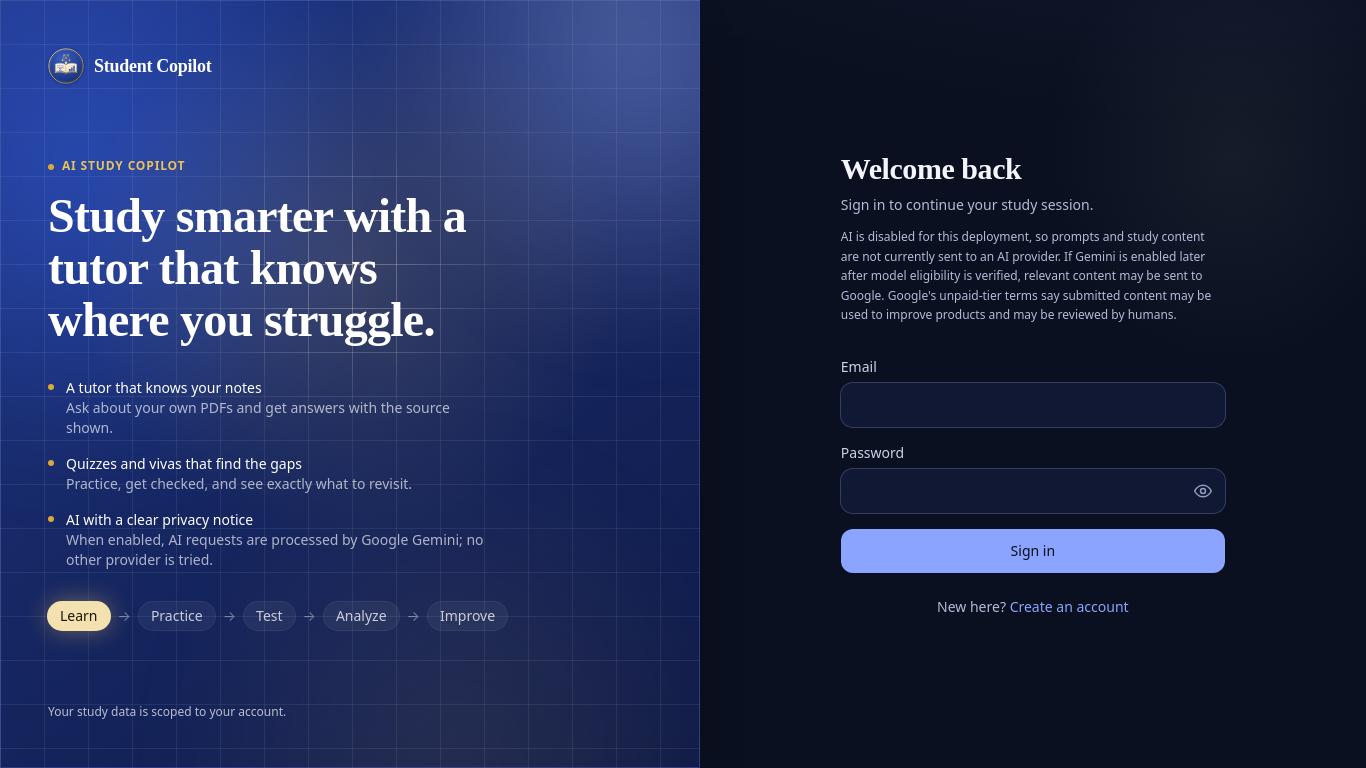
Test case: login › signs in and lands on the dashboard
The image size is (1366, 768).
Type "  Rahul@Example.com " into the field labelled "Email" at (1033, 405), box [841,383,1225,427]
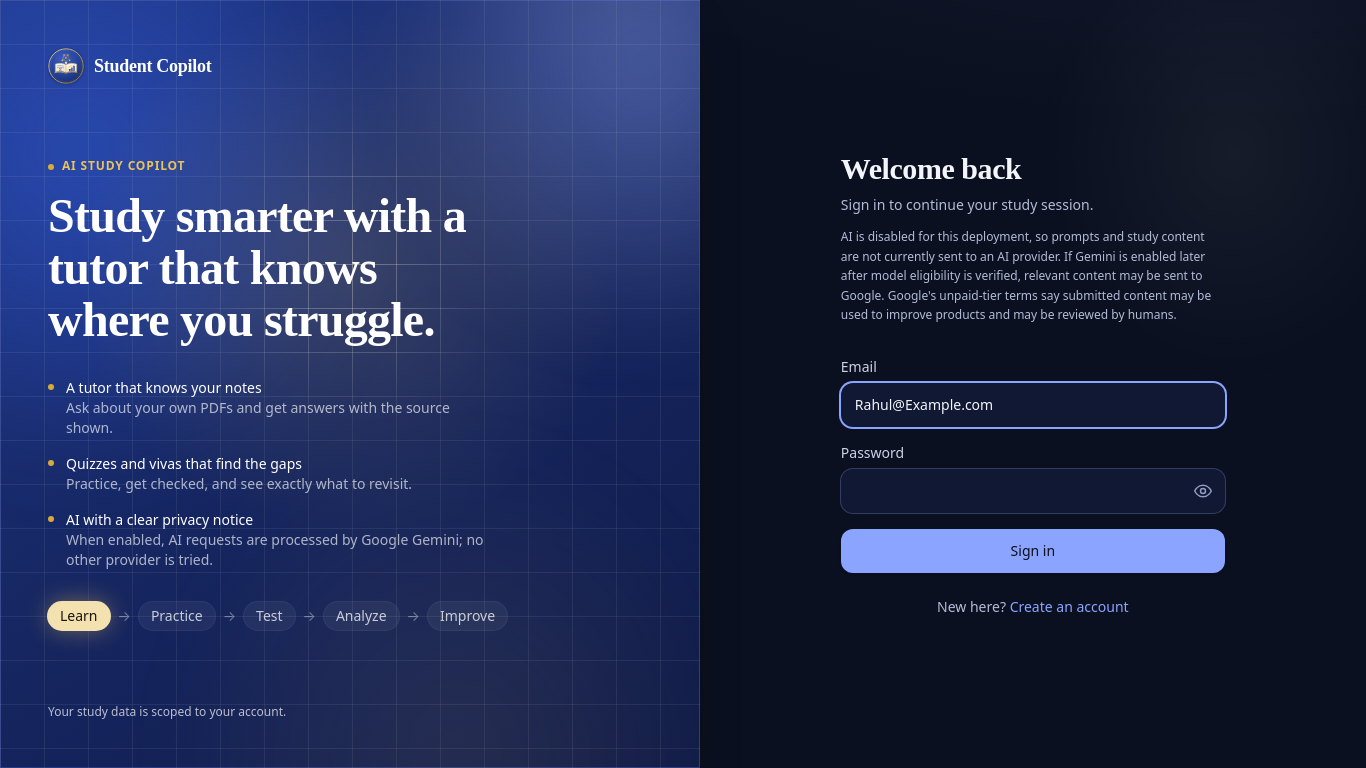
Type "correct-horse-battery" into the password field labelled "Password" at (1033, 491), box [841,469,1225,513]
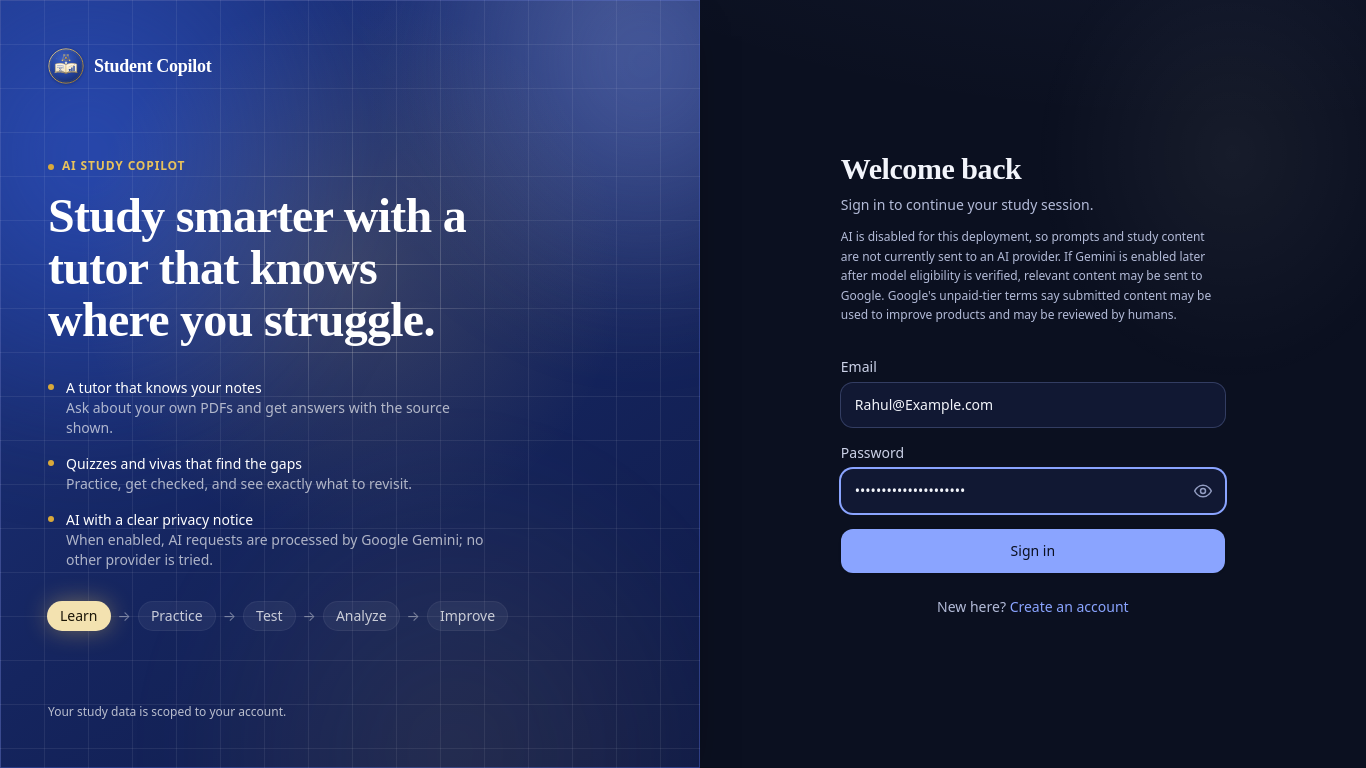
Click the button "Sign in" at (1033, 551), box [841,529,1225,573]
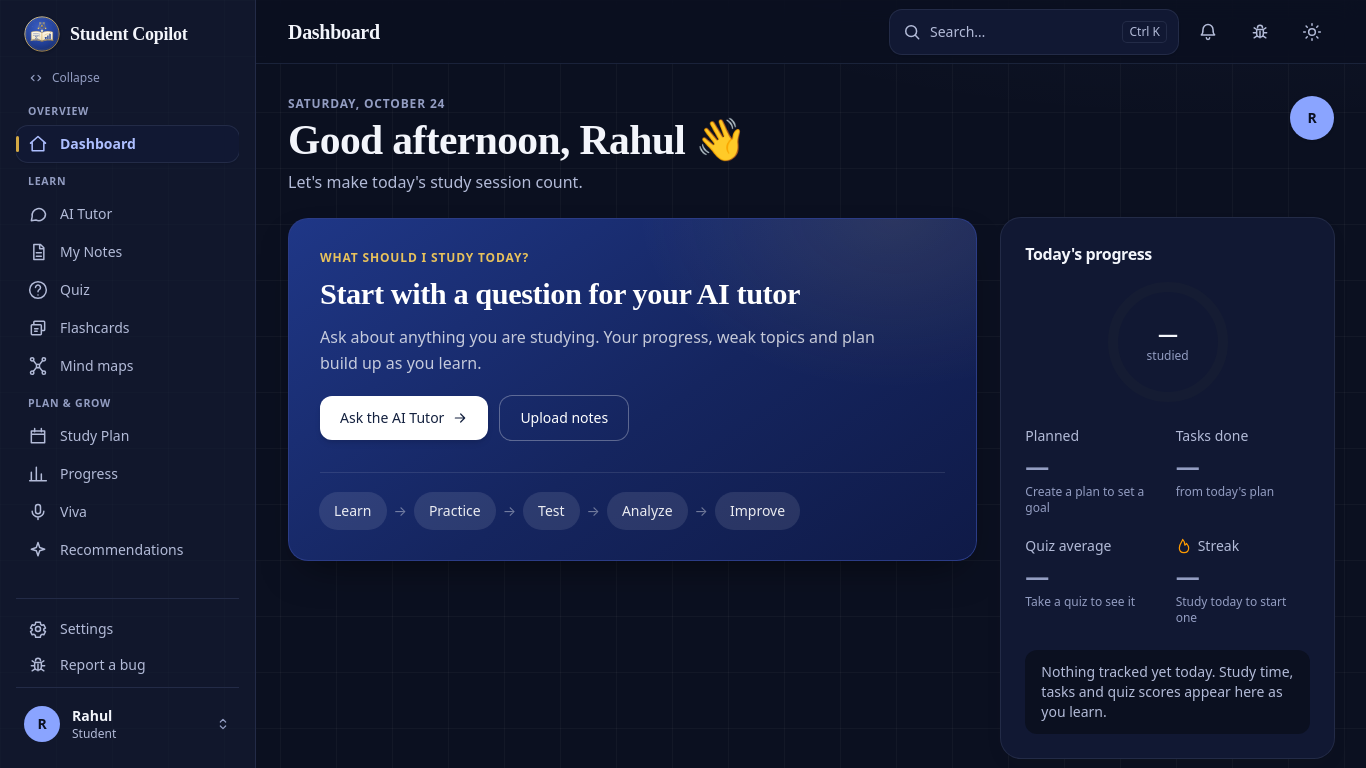
Expected: the heading "Good afternoon, Rahul 👋" is shown, [288,118,746,164]
